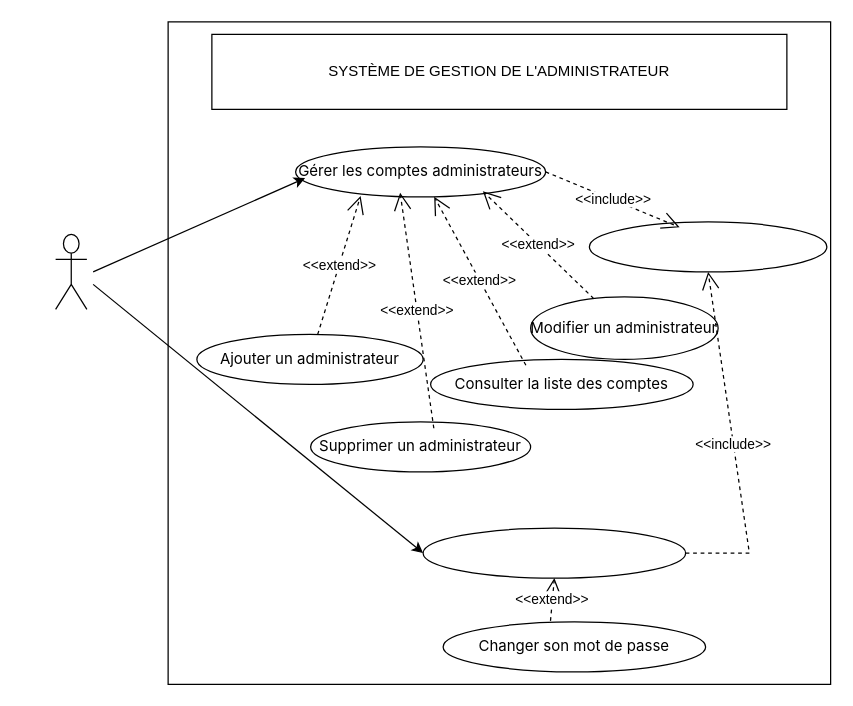
Image size: 853x706. Some labels were removed from this diagram. The centre of each missing label's shape, as x and y in pixels:
"Admiinistrateur" goes at (70,271).
"Modifier son profil" goes at (554,552).
"S'authentifier" goes at (707,246).
